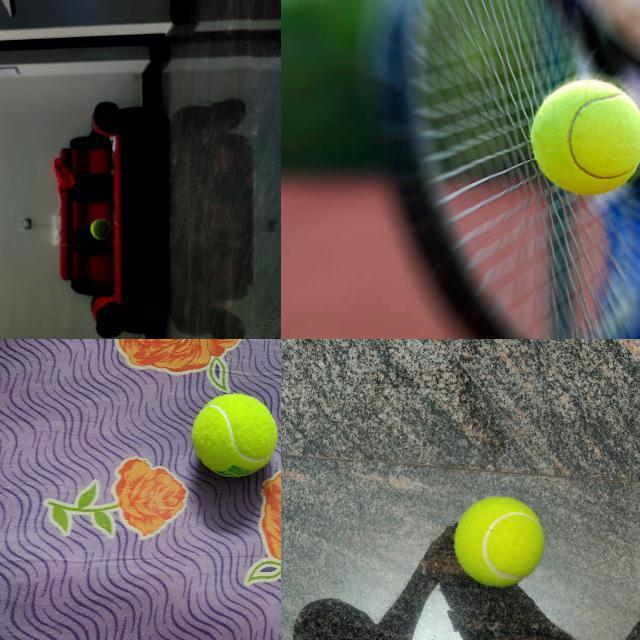tennis-ball: (530, 76, 639, 196), (454, 495, 544, 587), (191, 392, 277, 478), (90, 218, 112, 240)
